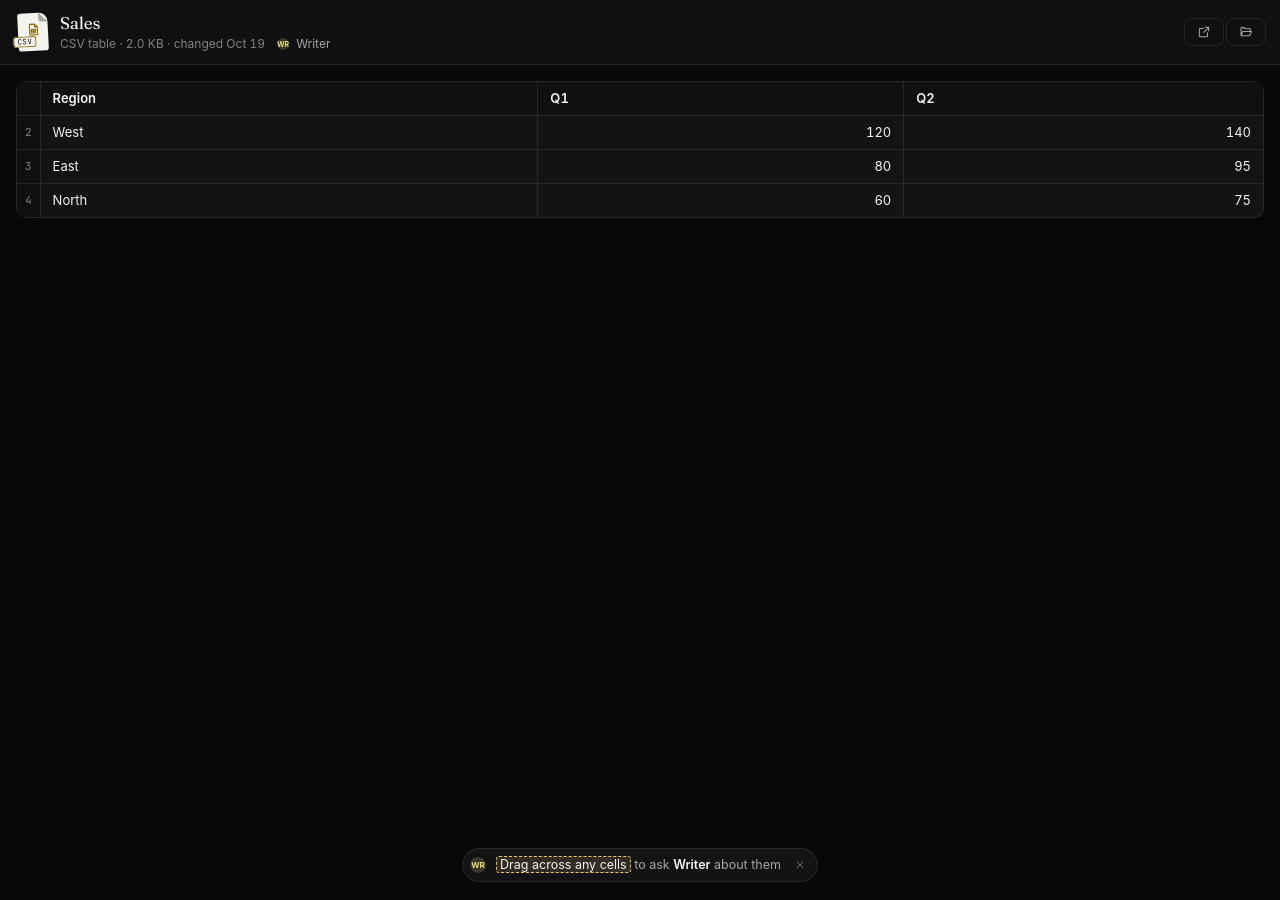
Scenario: a sheet in the reader › marks the cells dragged across, and asks about them as their words with their column and row names
Check: the text "Drag across any cells" is shown, box [496,856,631,873]
Check: the column heading "Q1" is shown, box [538,82,904,116]
Press the mouse on the cell "120" at (721, 133), box [538,116,904,150]
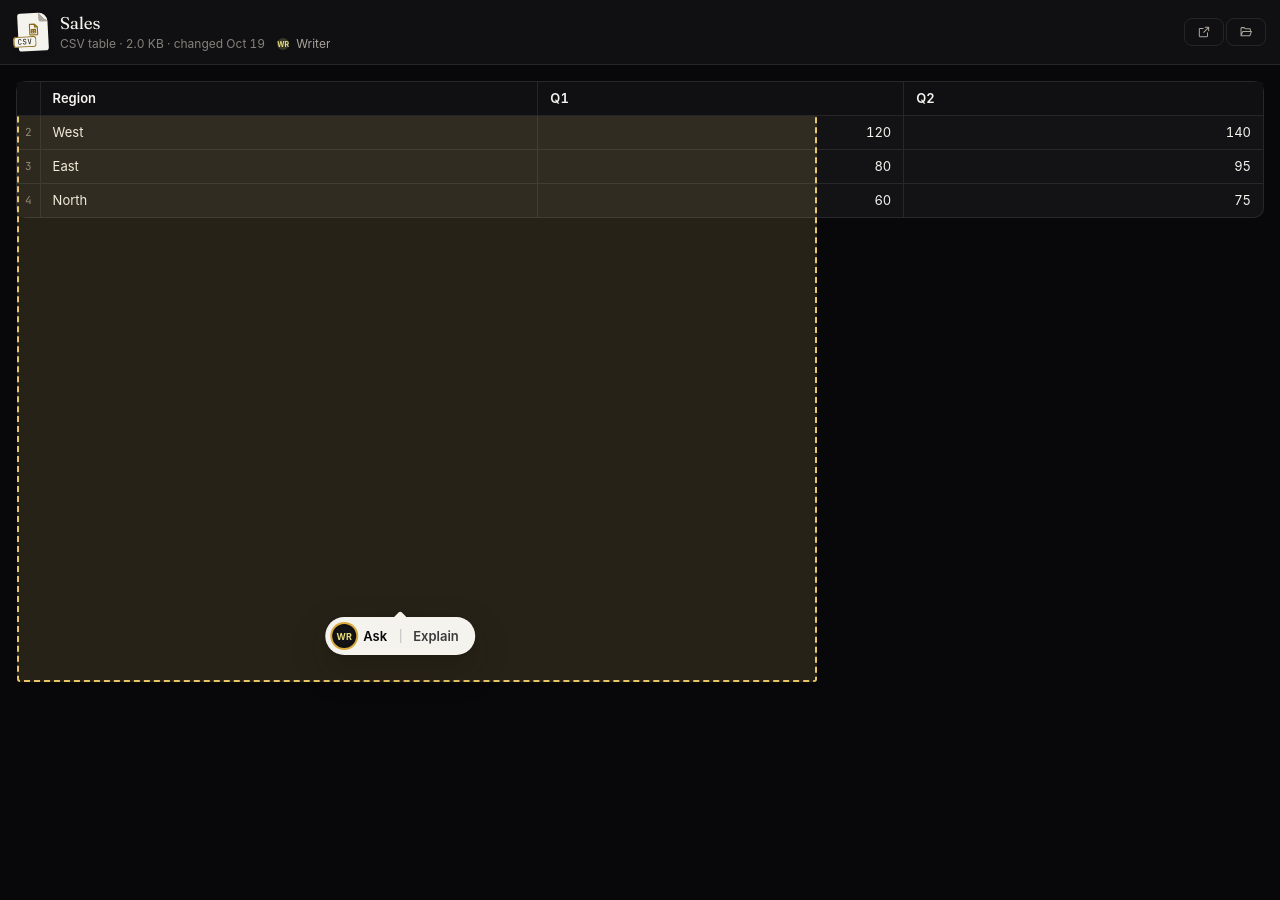
Check: the element named "Ask Writer about the cells you marked" is shown, box [325,617,475,655]
Check: the element with class "marking" is shown, box [17,82,817,682]
Click the button "WR Ask" at (364, 636), box [328,620,400,652]
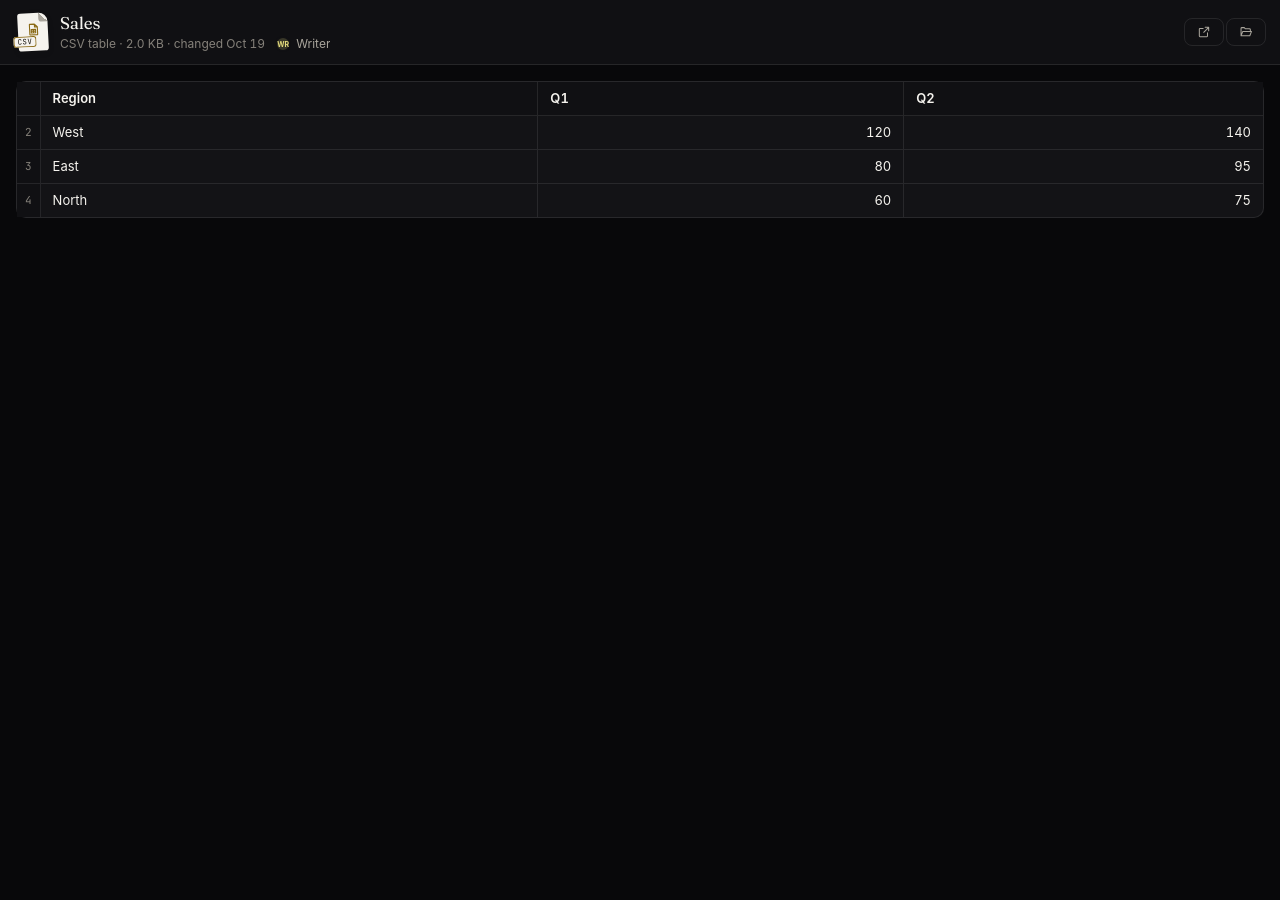
Check: the element with class "marking" is gone
